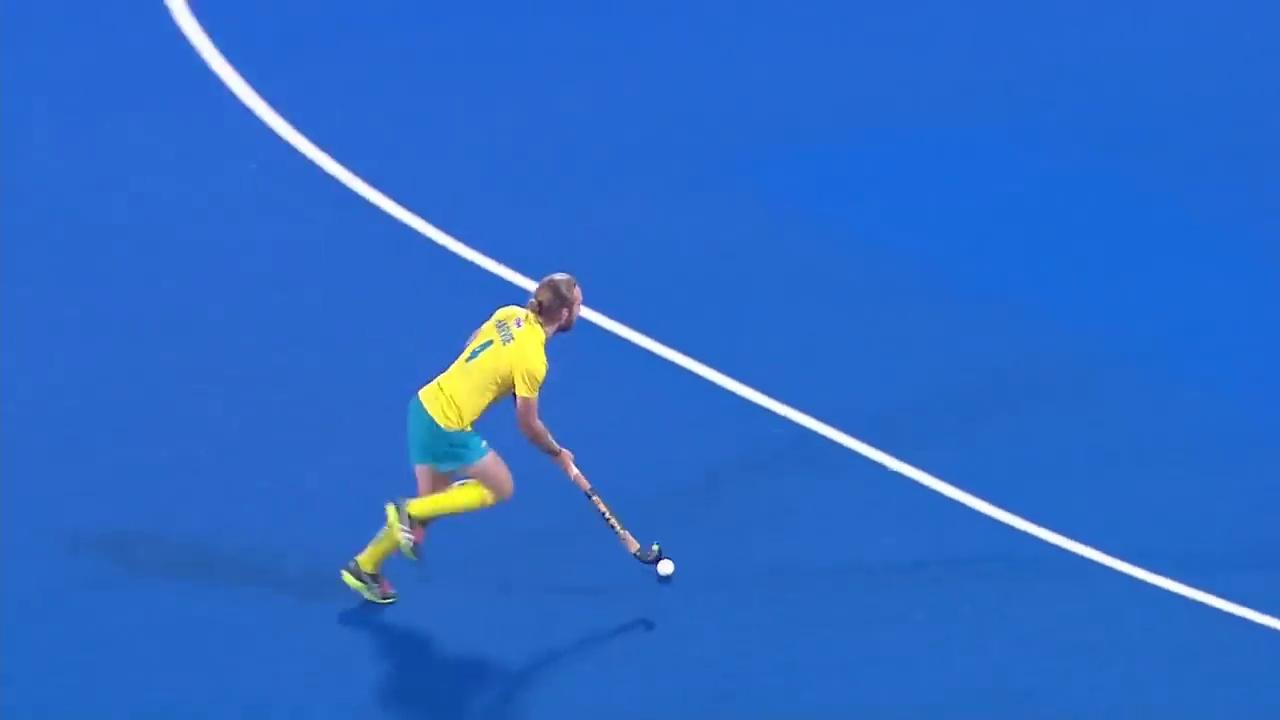ball: (637, 542, 693, 586)
